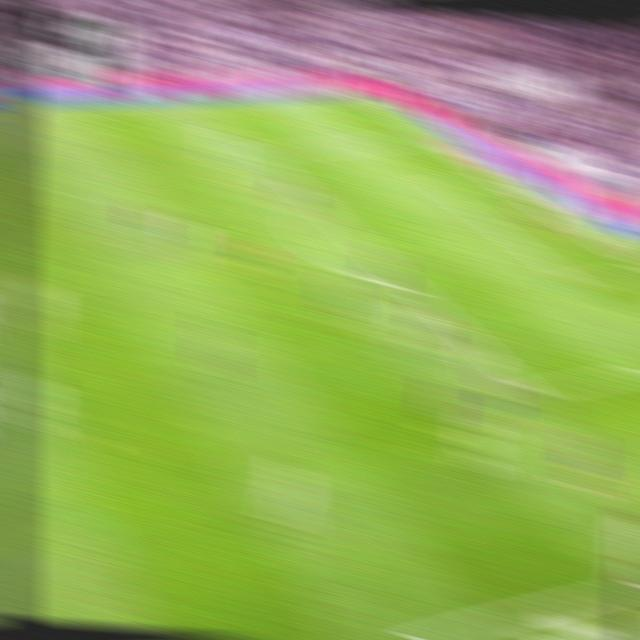bigarea_bottom_inner: (514, 375, 548, 407)
bigarea_top_inner: (246, 143, 273, 160)
bigarea_top_outter: (410, 127, 439, 146)
bottom_arc_area_intersection: (398, 276, 428, 298)
corner: (343, 87, 375, 104)
smallarea_bottom_inner: (560, 269, 590, 293)
smallarea_top_inner: (423, 178, 451, 193)
top_arc_area_intersection: (306, 195, 334, 217)
